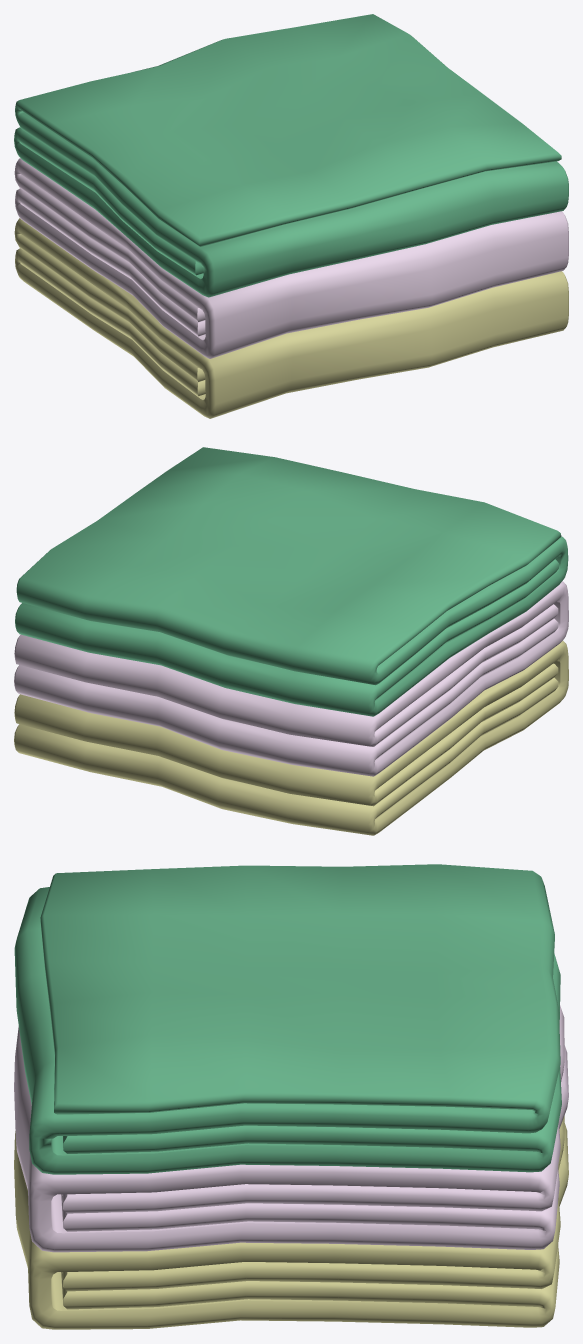
File: WashCloth03.FBX
3 renders of one model, top to bottom at view 1: azimuth 30°, elevation 25°; view 2: azimuth 150°, elevation 25°; view 3: azimuth 270°, elevation 25°, orthographic. The views are drawn at different scales.
Parts seen in each view (by area): view 1: WashCloth03; view 2: WashCloth03; view 3: WashCloth03.
Boxes of the visible parts, x1,y1,x2,y2 form: WashCloth03: (14, 14, 568, 418); WashCloth03: (14, 447, 568, 835); WashCloth03: (14, 864, 568, 1329).
Size of the model in its own units: 621 by 306 by 619.
